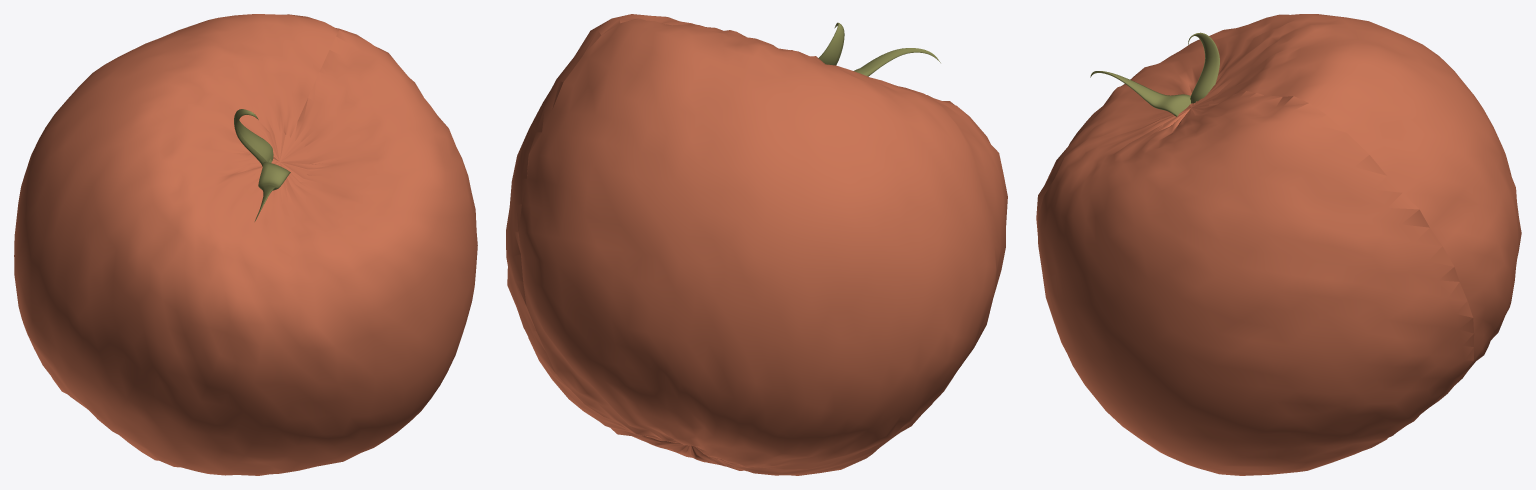
File: Tomato2_Model.fbx
3 renders of one model, left to right at view 1: azimuth 30°, elevation 25°; view 2: azimuth 150°, elevation 25°; view 3: azimuth 270°, elevation 25°, orthographic. The views are drawn at different scales.
Visible parts, largest first — view 1: null_16, null_17, null_18; view 2: null_16, null_18, null_17; view 3: null_16, null_18, null_17.
Boxes of the visible parts, x1=… form: null_16: x1=14, y1=14, x2=477, y2=475; null_17: x1=234, y1=109, x2=273, y2=166; null_18: x1=254, y1=162, x2=290, y2=221; null_16: x1=506, y1=14, x2=1007, y2=475; null_18: x1=854, y1=48, x2=940, y2=76; null_17: x1=818, y1=22, x2=844, y2=65; null_16: x1=1036, y1=14, x2=1521, y2=475; null_18: x1=1090, y1=71, x2=1191, y2=116; null_17: x1=1188, y1=32, x2=1219, y2=103.
Bounding box in the file's own units: 54.94 × 53.44 × 56.1.
